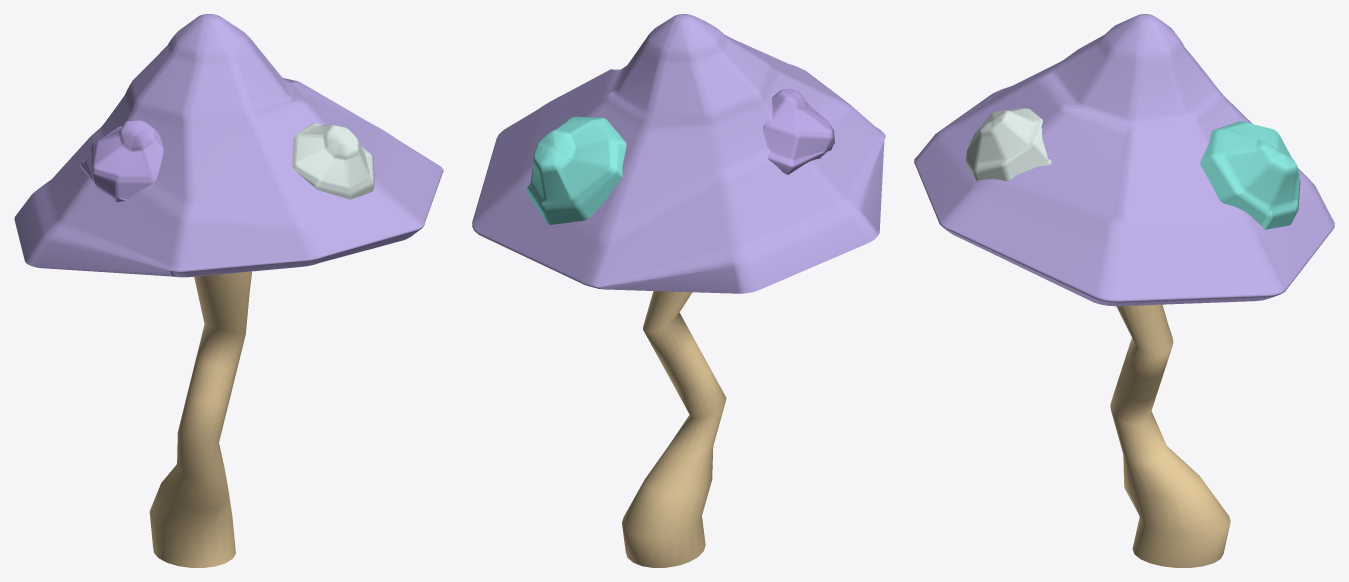
File: Mush7.fbx
3 renders of one model, left to right at view 1: azimuth 30°, elevation 25°; view 2: azimuth 150°, elevation 25°; view 3: azimuth 270°, elevation 25°, orthographic. The views are drawn at different scales.
Parts seen in each view (by area): view 1: group3_pasted__pSphere12; view 2: group3_pasted__pSphere12; view 3: group3_pasted__pSphere12.
Boxes of the visible parts, x1=… form: group3_pasted__pSphere12: x1=14, y1=14, x2=443, y2=567; group3_pasted__pSphere12: x1=472, y1=14, x2=885, y2=567; group3_pasted__pSphere12: x1=914, y1=14, x2=1334, y2=567.
Size of the model in its own units: 0.5466 by 0.712 by 0.5067.
